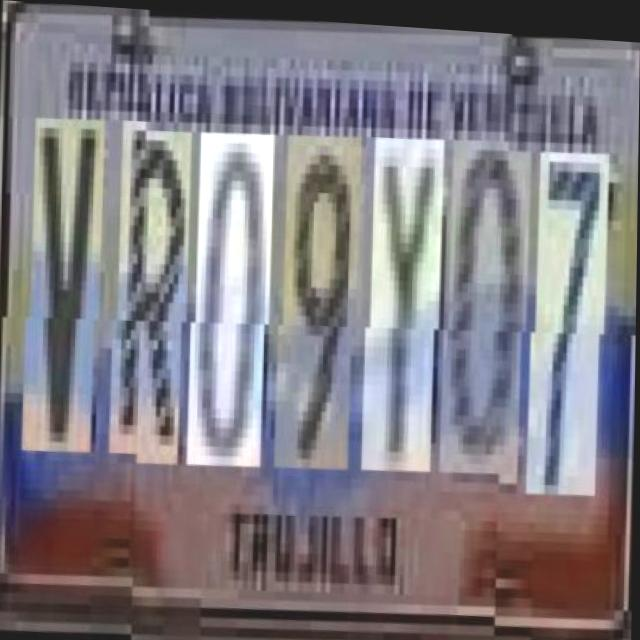7: (534, 136, 611, 484)
9: (282, 130, 363, 470)
o: (446, 134, 533, 475), (195, 128, 276, 468)
r: (115, 126, 193, 466)
v: (28, 125, 106, 465)
y: (369, 133, 446, 472)
